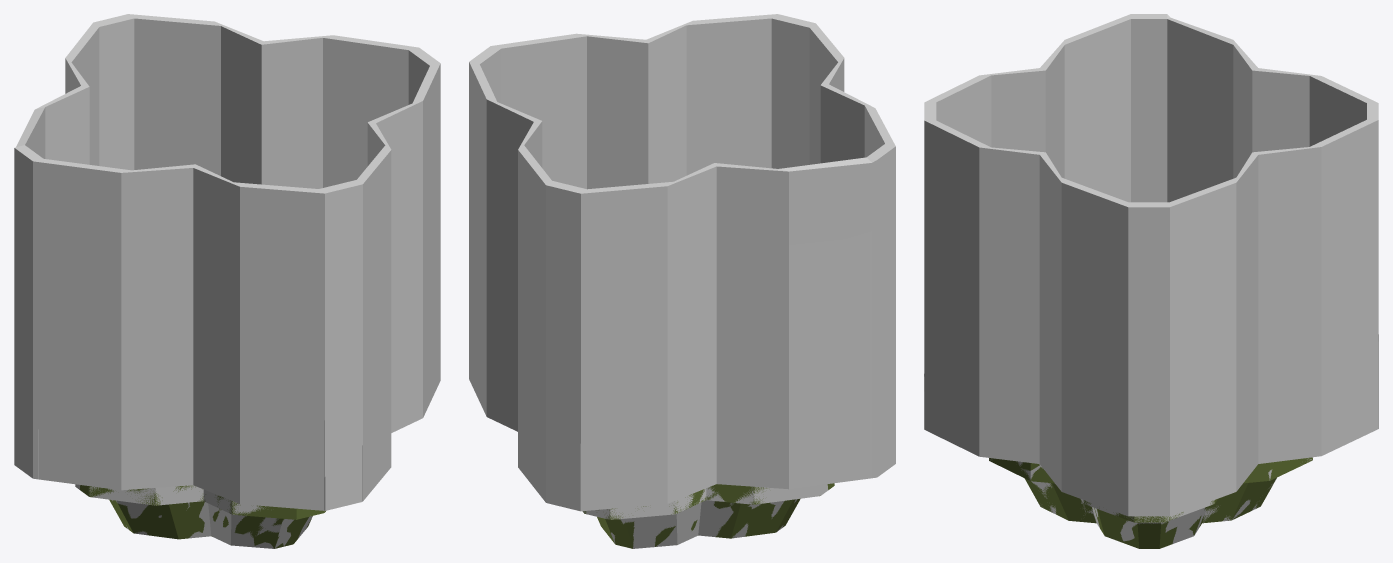
The model's file is flowerisland_Alexafix.fbx.
3 views of the same model, side by side, from view 1: azimuth 30°, elevation 25°; view 2: azimuth 150°, elevation 25°; view 3: azimuth 270°, elevation 25° (orthographic). The views are drawn at different scales.
Visible parts, largest first — view 1: z_barrier, y_island; view 2: z_barrier, y_island; view 3: z_barrier, y_island.
Part boxes in pixels (<box>): z_barrier: <box>14,14,440,548</box>; y_island: <box>80,485,325,548</box>; z_barrier: <box>469,14,895,548</box>; y_island: <box>583,483,834,548</box>; z_barrier: <box>924,14,1378,543</box>; y_island: <box>989,457,1312,548</box>.
Bounding box in the file's own units: 7654 × 7235 × 7617.
